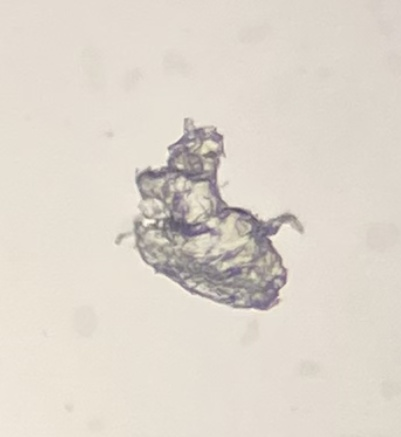microplastic: (115, 118, 304, 310)
